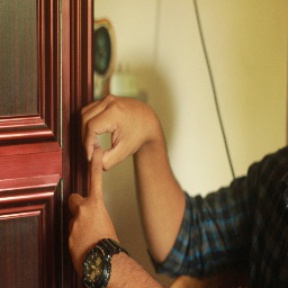Q: (59, 90, 159, 219)
